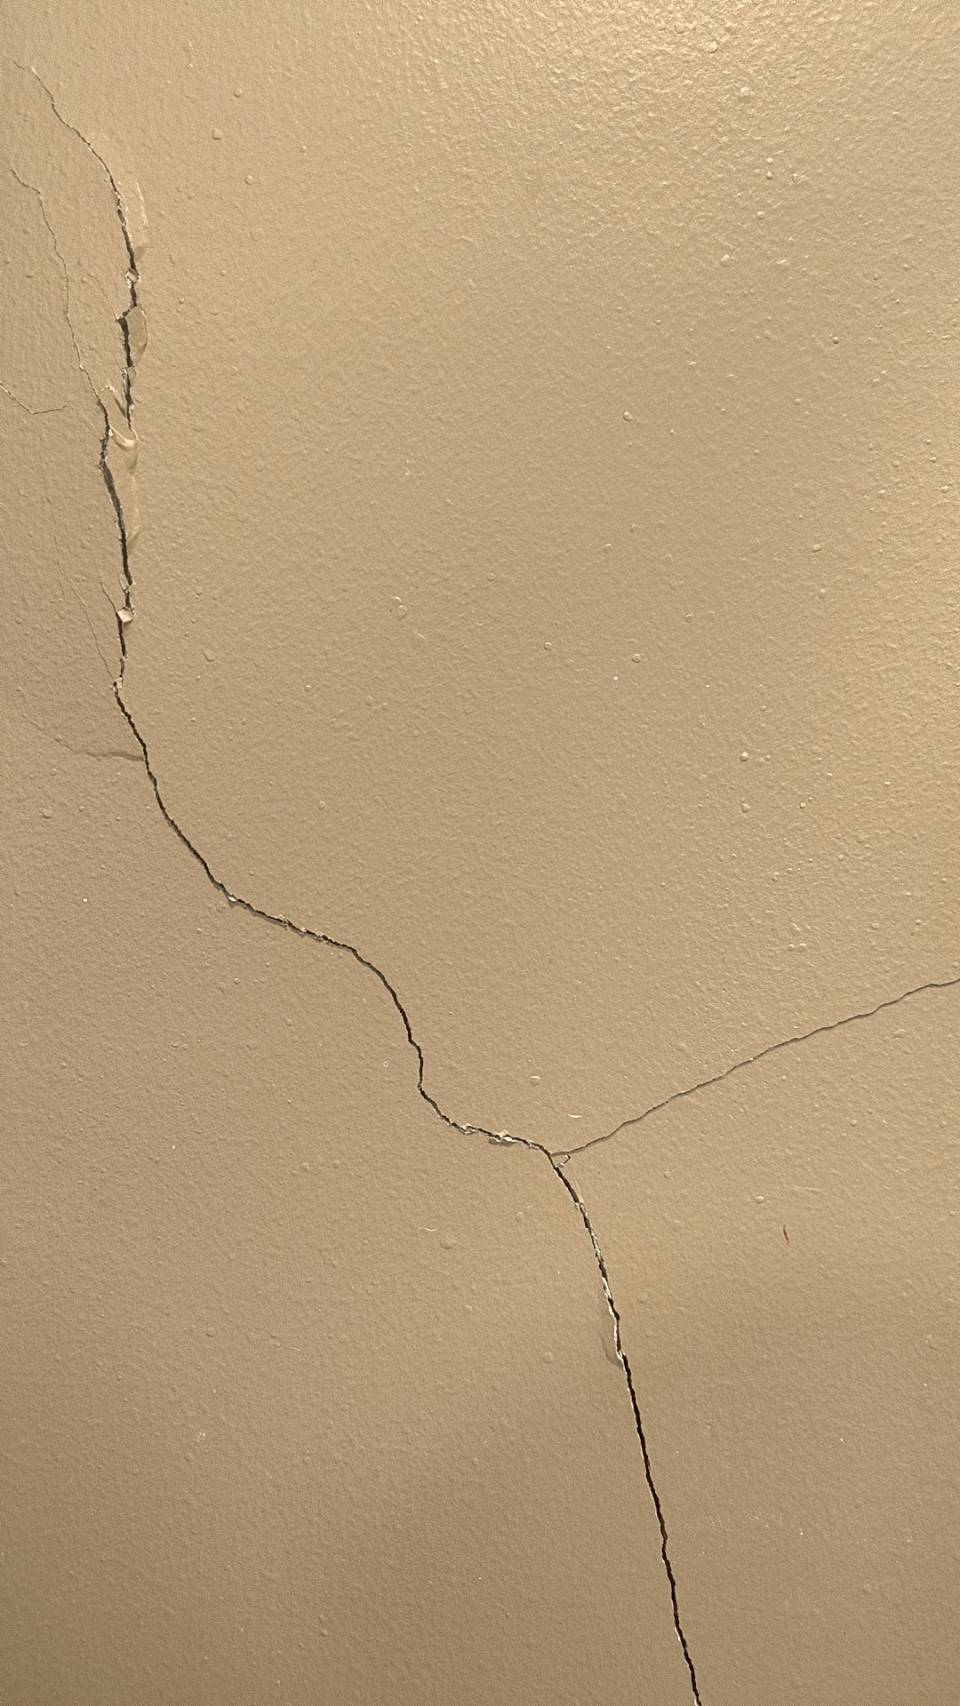Low: (2, 53, 960, 1706)
